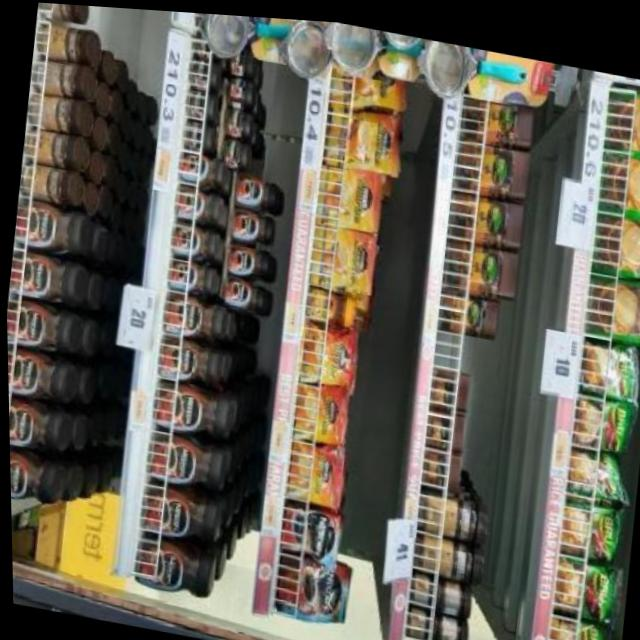Coffee: (320, 99, 400, 170), (269, 553, 346, 621), (142, 426, 221, 488), (130, 537, 210, 596), (149, 377, 227, 437), (135, 482, 213, 542), (314, 161, 381, 227), (307, 224, 374, 289), (286, 378, 345, 444), (6, 247, 74, 303), (11, 200, 79, 255), (296, 319, 356, 380), (277, 499, 340, 557), (281, 440, 337, 502), (154, 333, 219, 386), (5, 299, 68, 352), (160, 291, 221, 340), (6, 350, 62, 402), (7, 395, 57, 453), (8, 446, 53, 506), (303, 280, 351, 323), (168, 218, 215, 260), (171, 181, 219, 222), (165, 256, 211, 293), (175, 146, 221, 183), (222, 238, 266, 276), (232, 170, 277, 207), (229, 205, 272, 243), (220, 272, 262, 308), (185, 51, 217, 87), (221, 70, 252, 107), (220, 102, 251, 135), (184, 86, 214, 120), (181, 115, 210, 149), (219, 134, 248, 164)
